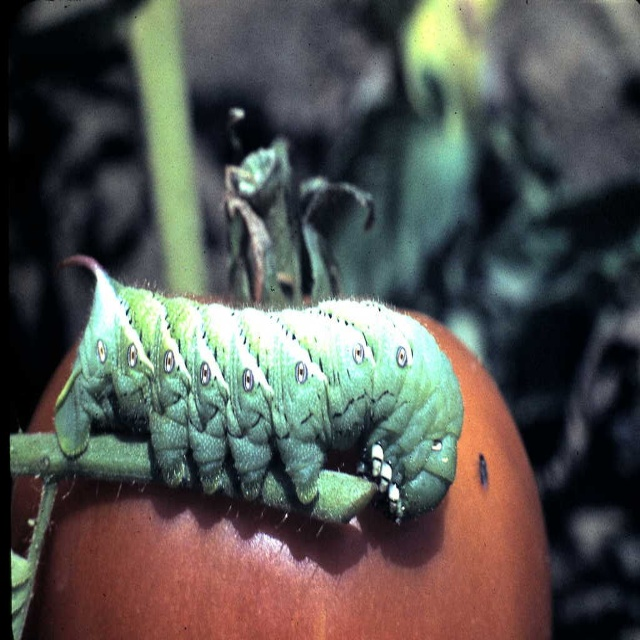Caterpillar: (58, 256, 464, 523)
